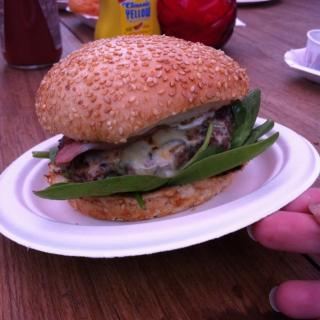Hamburger: (30, 35, 280, 221)
